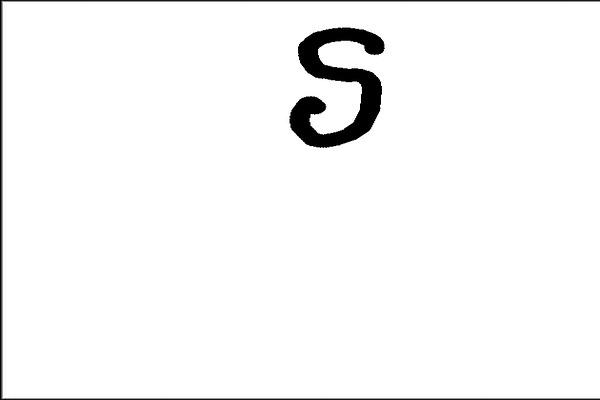S: (278, 20, 393, 157)
